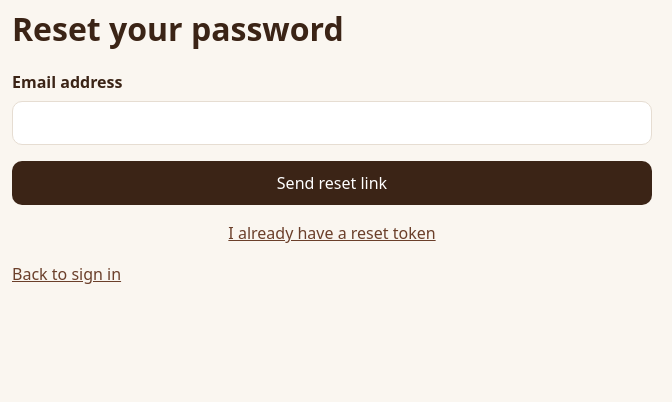
Test case: PasswordResetPage › requests a reset without confirming whether the email exists
Type "asha@example.com" into the field labelled "Email address".
click(332, 123); type("asha@example.com")  # box left=12, top=101, right=652, bottom=145
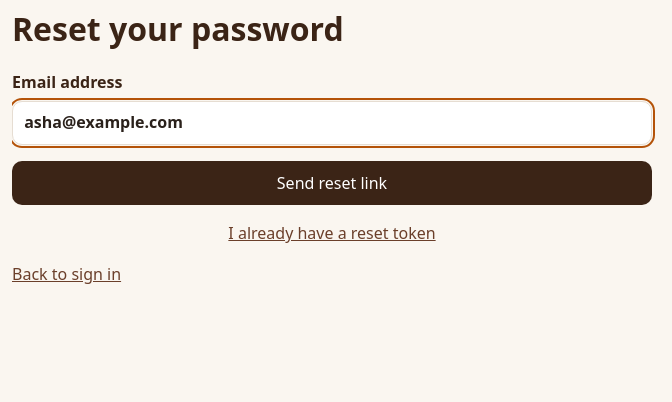
Click the button "Send reset link".
click(332, 183)  # box left=12, top=161, right=652, bottom=205
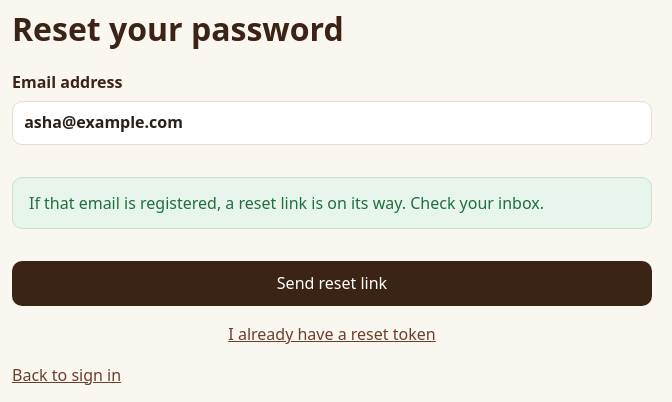
Expected: the message shows "If that email is registered", left=29, top=192, right=544, bottom=214
